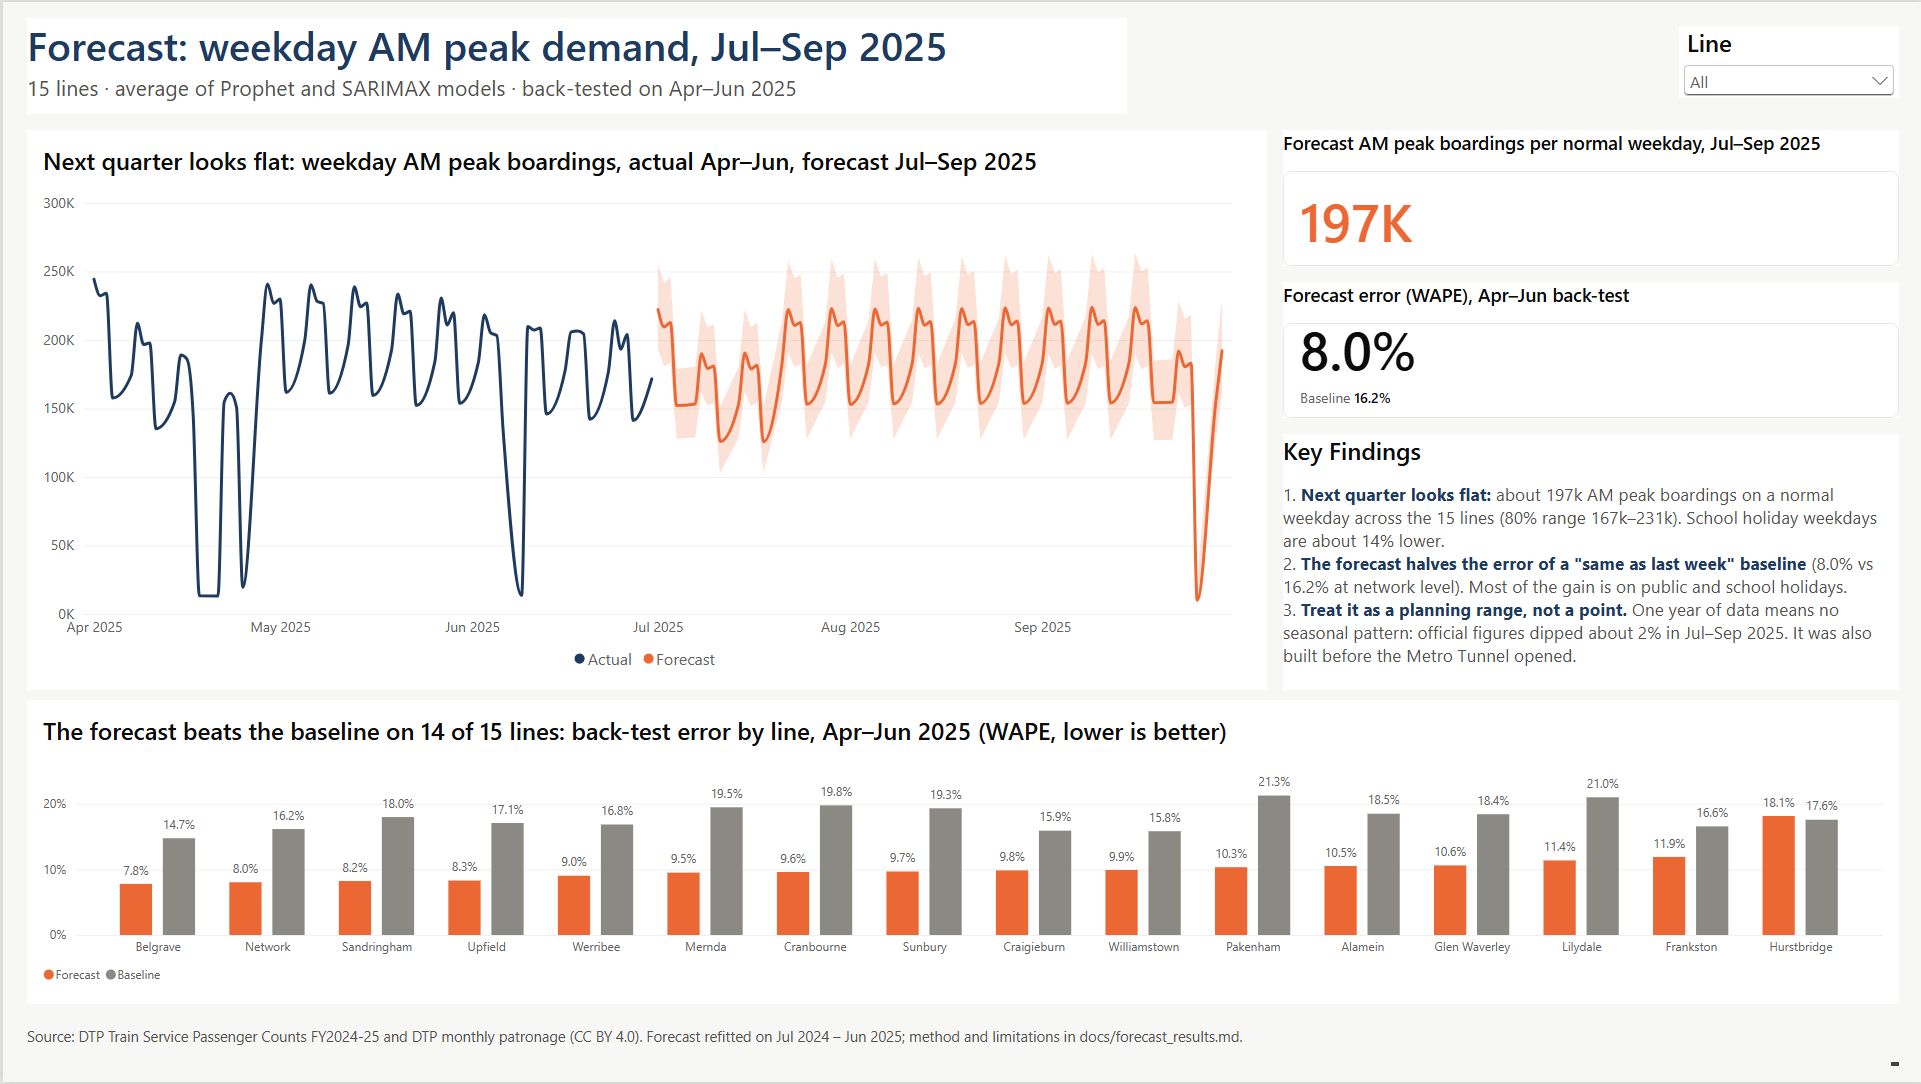

What the dashboard file says about the page in this screenshot:
{"tool":"powerbi","page":{"name":"Forecast","canvas":[1920,1080],"ordinal":2},"visuals":[{"type":"textbox","title":"Forecast: weekday AM peak demand, Jul–Sep 2025","box":[24,16,1100,96],"z":0},{"type":"slicer","fields":{"Values":["DIM_LINE.LINE_LABEL"]},"box":[1676,24,220,72],"z":1000},{"type":"lineChart","title":"Next quarter looks flat: weekday AM peak boardings, actual Apr–Jun, forecast Jul–Sep 2025","fields":{"Category":["DIM_CALENDAR.CALENDAR_DATE"],"Y":["_Measures.Actual AM Peak","_Measures.Forecast"]},"box":[24,128,1240,560],"z":2000},{"type":"cardVisual","title":"Forecast AM peak boardings per normal weekday, Jul–Sep 2025","fields":{"Data":["_Measures.Forecast Avg Normal Weekday"]},"box":[1280,128,616,136],"z":3000},{"type":"cardVisual","title":"Forecast error (WAPE), Apr–Jun back-test","fields":{"Data":["_Measures.Network Forecast WAPE"]},"box":[1280,280,616,136],"z":4000},{"type":"textbox","title":"Key Findings","box":[1280,432,616,256],"z":5000},{"type":"clusteredColumnChart","title":"The forecast beats the baseline on 14 of 15 lines: back-test error by line, Apr–Jun 2025 (WAPE, lower is better)","fields":{"Category":["FORECAST_METRICS.LINE_NAME"],"Y":["_Measures.Forecast WAPE","_Measures.Baseline WAPE"]},"box":[24,698,1872,304],"z":6000},{"type":"textbox","title":"Source: DTP Train Service Passenger Counts FY2024-25 and DTP monthly patronage (CC BY 4.0). Forecast refitted on Jul 2024 – Jun 2025; method and limitations in docs/forecast_results.md.","box":[24,1024,1872,40],"z":7000}]}

Visuals, with their boxes in screenshot pixels (x1, y1, x2, y2), scaled from the page's 1920x1080 canvas onto the 1921x1084 screenshot:
"Forecast: weekday AM peak demand, Jul–Sep 2025" textbox: 24,16,1125,112
slicer - DIM_LINE.LINE_LABEL: 1677,24,1897,96
"Next quarter looks flat: weekday AM peak boardings, actual Apr–Jun, forecast Jul–Sep 2025" lineChart: 24,128,1265,691
"Forecast AM peak boardings per normal weekday, Jul–Sep 2025" cardVisual: 1281,128,1897,265
"Forecast error (WAPE), Apr–Jun back-test" cardVisual: 1281,281,1897,418
"Key Findings" textbox: 1281,434,1897,691
"The forecast beats the baseline on 14 of 15 lines: back-test error by line, Apr–Jun 2025 (WAPE, lower is better)" clusteredColumnChart: 24,701,1897,1006
"Source: DTP Train Service Passenger Counts FY2024-25 and DTP monthly patronage (CC BY 4.0). Forecast refitted on Jul 2024 – Jun 2025; method and limitations in docs/forecast_results.md." textbox: 24,1028,1897,1068
